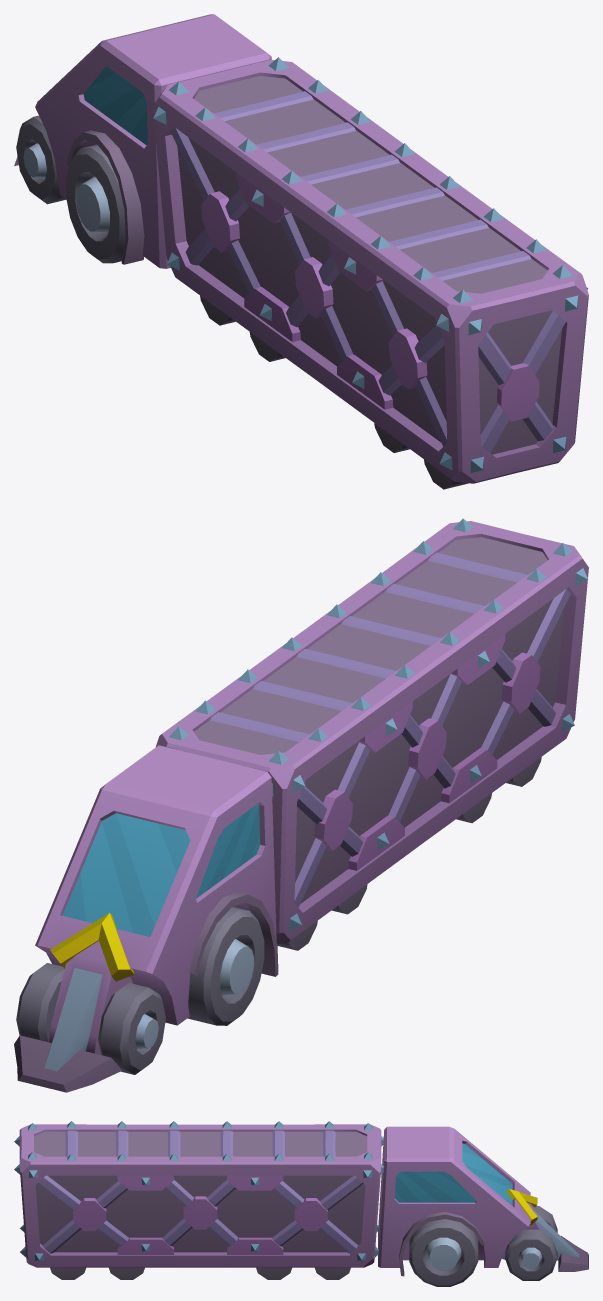
File: obstacle-factory_truck_MRA.glb
The picture shows the model from 3 angles, top to bottom: view 1: azimuth 30°, elevation 25°; view 2: azimuth 150°, elevation 25°; view 3: azimuth 270°, elevation 25°; orthographic projection. The views are drawn at different scales.
Parts seen in each view (by area): view 1: obstacle-factory_truck_MRA; view 2: obstacle-factory_truck_MRA; view 3: obstacle-factory_truck_MRA.
Boxes of the visible parts, x1,y1,x2,y2 form: obstacle-factory_truck_MRA: (14,14,588,489); obstacle-factory_truck_MRA: (14,518,588,1092); obstacle-factory_truck_MRA: (14,1121,588,1286).
Bounding box in the file's own units: 3.27 × 4.45 × 17.84.
